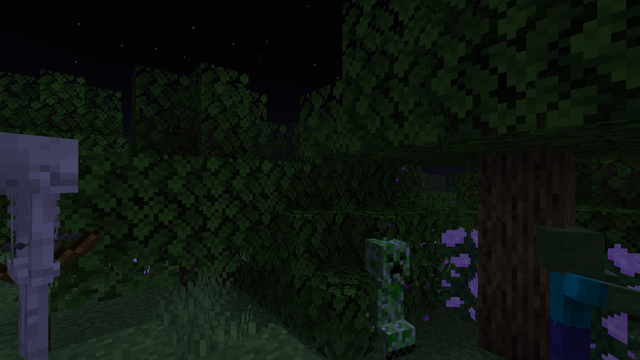creepers: (359, 232, 412, 359)
squelettes: (2, 135, 79, 358)
zombies: (529, 226, 600, 359)
